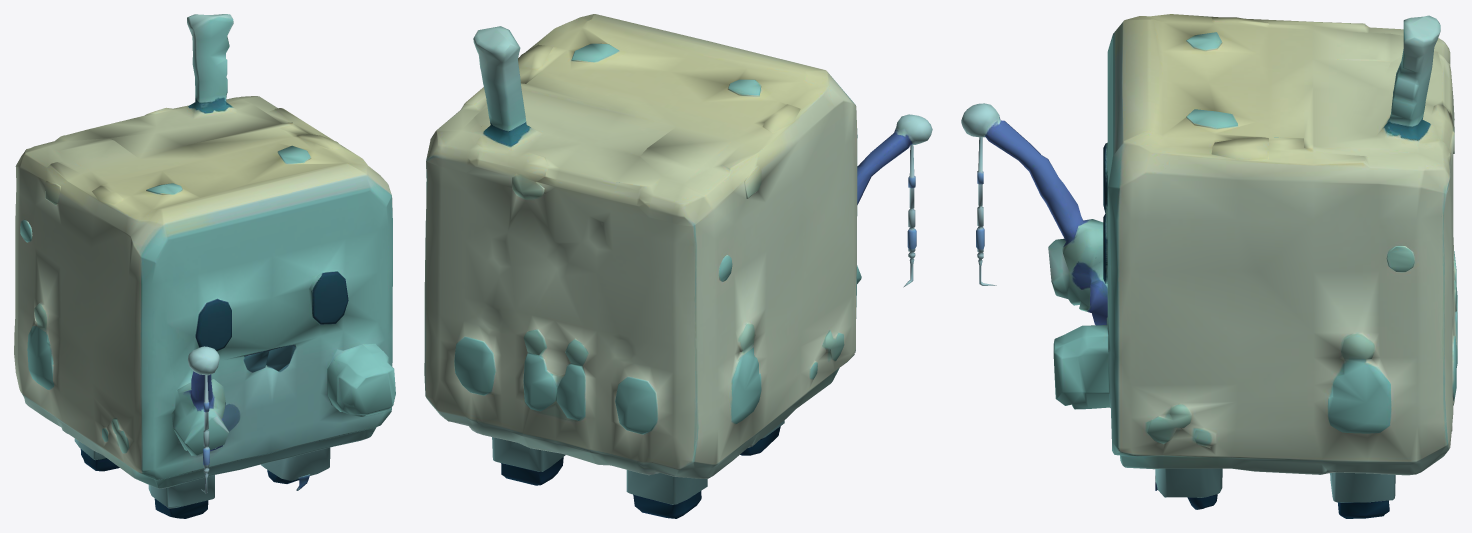
File: 12886f27-5b39-4453-9f0e-294854466a1e-pbr_model.glb
3 renders of one model, left to right at view 1: azimuth 30°, elevation 25°; view 2: azimuth 150°, elevation 25°; view 3: azimuth 270°, elevation 25°, orthographic. The views are drawn at different scales.
Parts seen in each view (by area): view 1: tripo_node_12886f27-5b39-4453-9f0e-294854466a1e; view 2: tripo_node_12886f27-5b39-4453-9f0e-294854466a1e; view 3: tripo_node_12886f27-5b39-4453-9f0e-294854466a1e.
Part boxes in pixels (x1,y1,x2,y2): tripo_node_12886f27-5b39-4453-9f0e-294854466a1e: (14, 14, 395, 518); tripo_node_12886f27-5b39-4453-9f0e-294854466a1e: (424, 14, 932, 518); tripo_node_12886f27-5b39-4453-9f0e-294854466a1e: (961, 14, 1457, 518).
Bounding box in the file's own units: 0.683 × 1 × 0.9159.
1 material, 1 textured.
